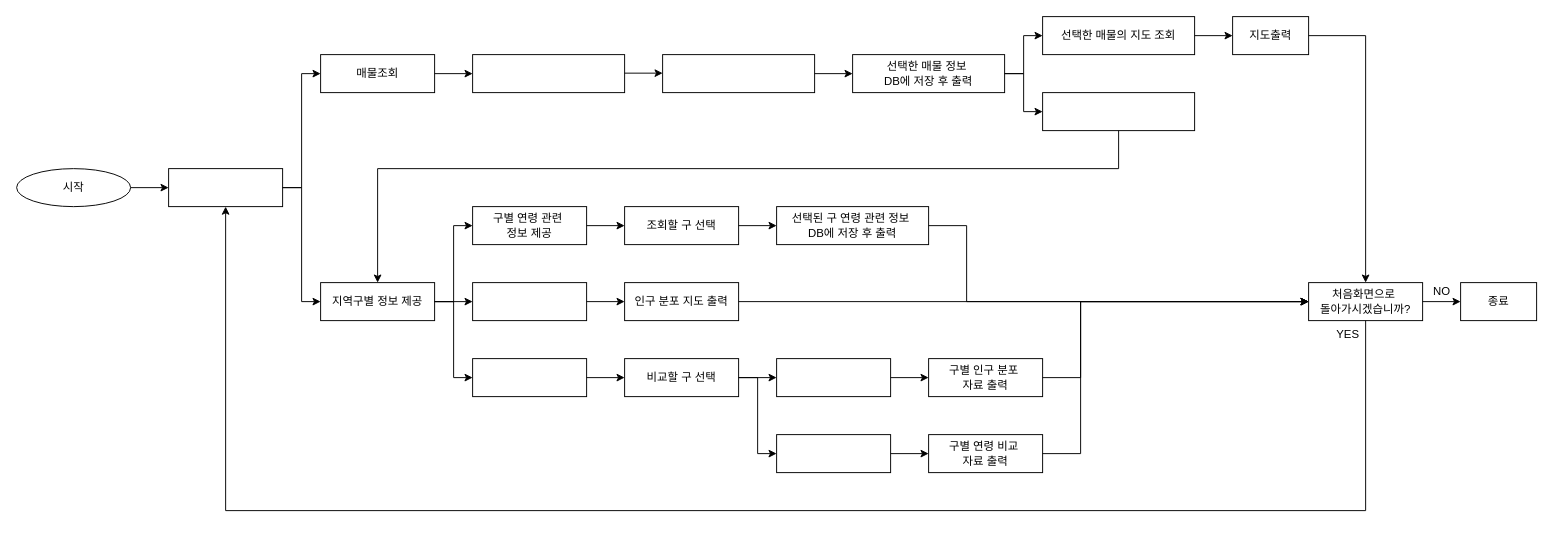
Image size: 1553x535. Some labels were removed from this diagram. Here are the shapes that lost their labels. From the top down, the centre of each, then its label:
[548,73]: 원하는 지역(구,동) 선택
[738,73]: 선택한 지역 매물 리스트 출력
[1118,111]: 선택한 매물 지역구별 정보
[225,187]: 메뉴
[529,301]: 인구 분포 자료 제공
[529,377]: 구별 비교 자료 제공
[833,377]: 인구 분포 비교 정보
[833,453]: 구별 연령 비교 정보
